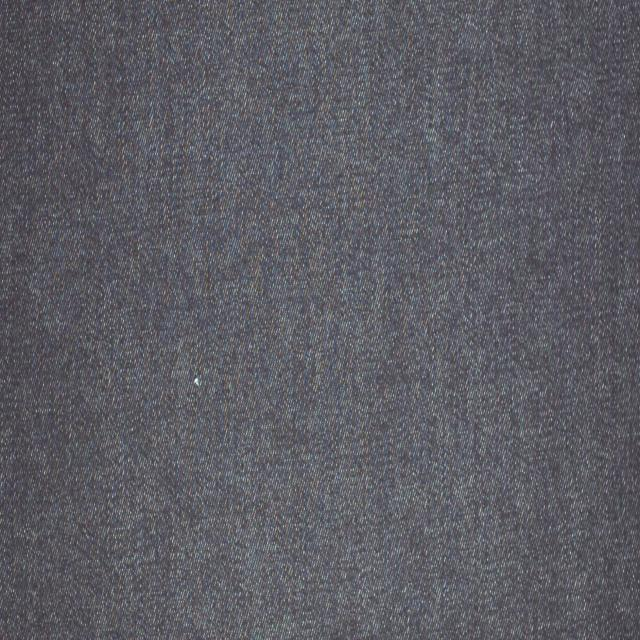Knot: (192, 375, 202, 388)
